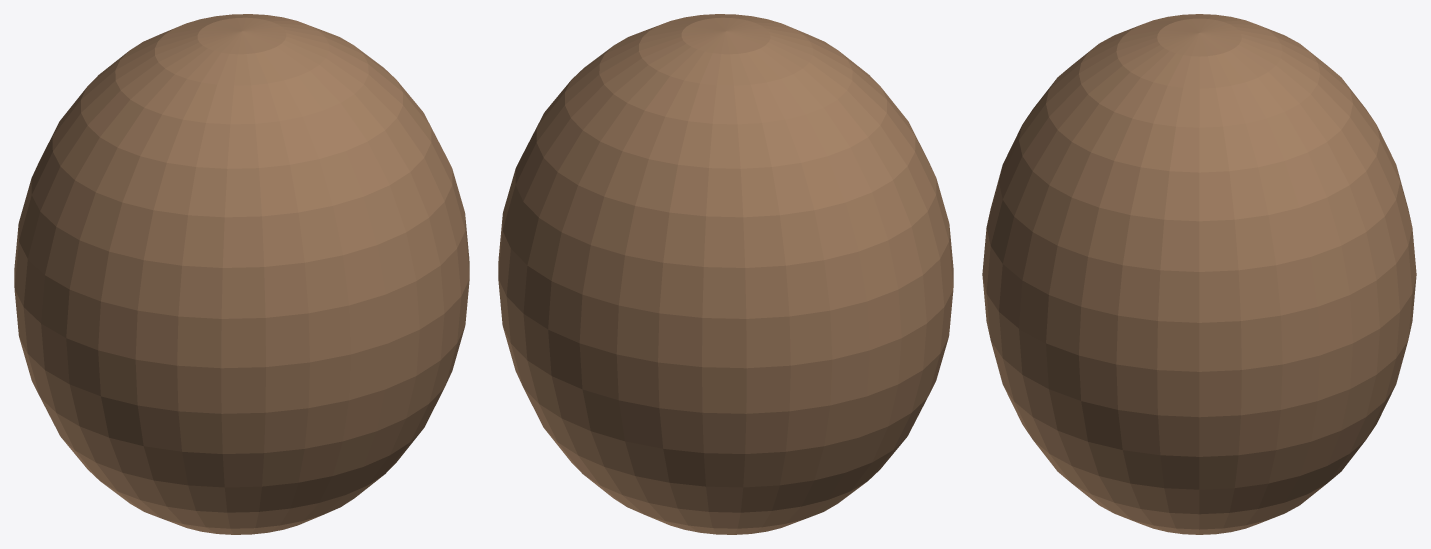
File: kiwi.fbx
The picture shows the model from 3 angles, left to right: view 1: azimuth 30°, elevation 25°; view 2: azimuth 150°, elevation 25°; view 3: azimuth 270°, elevation 25°; orthographic projection.
Parts seen in each view (by area): view 1: Sphere; view 2: Sphere; view 3: Sphere.
Boxes of the visible parts, x1=… form: Sphere: x1=14, y1=14, x2=469, y2=534; Sphere: x1=498, y1=14, x2=953, y2=534; Sphere: x1=982, y1=14, x2=1416, y2=534.
Bounding box in the file's own units: 235 × 272 × 221.
